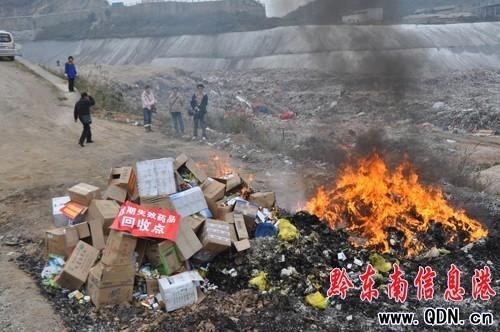fire: (302, 149, 486, 259)
